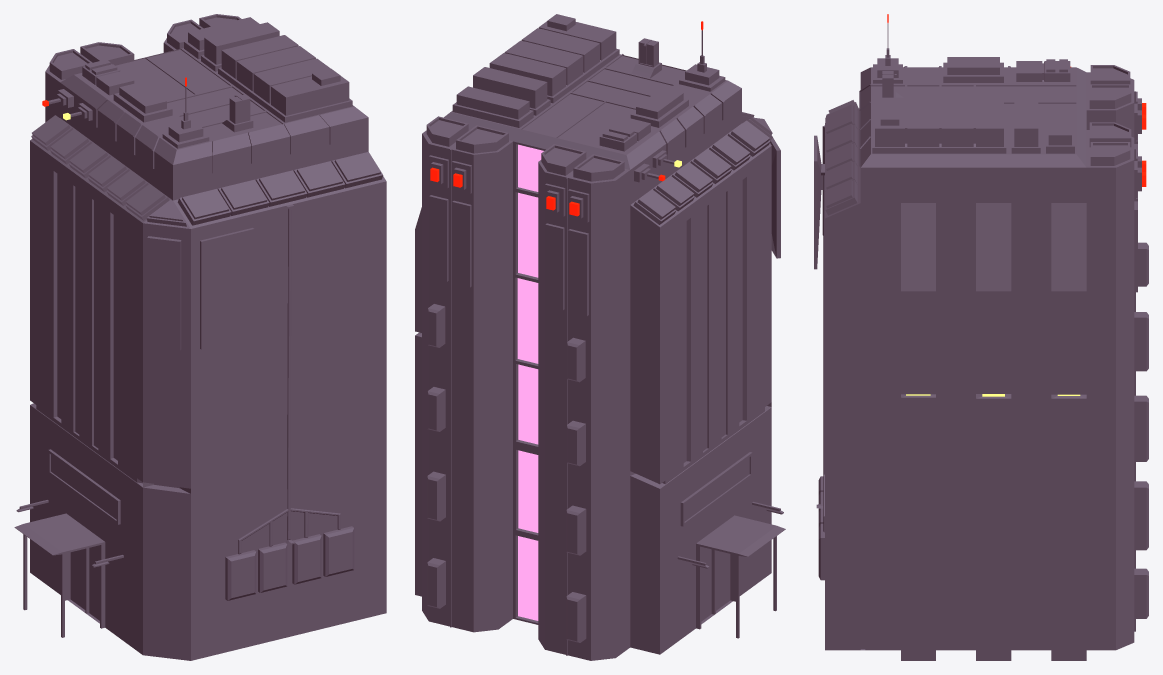
File: edificio.glb
3 views of the same model, side by side, from view 1: azimuth 30°, elevation 25°; view 2: azimuth 150°, elevation 25°; view 3: azimuth 270°, elevation 25° (orthographic).
Visible parts, largest first — view 1: Cube; view 2: Cube; view 3: Cube.
Boxes of the visible parts, x1,y1,x2,y2 form: Cube: (14,14,386,660); Cube: (415,14,785,660); Cube: (814,14,1148,660).
Size of the model in its own units: 4.55 by 8.03 by 4.41.
